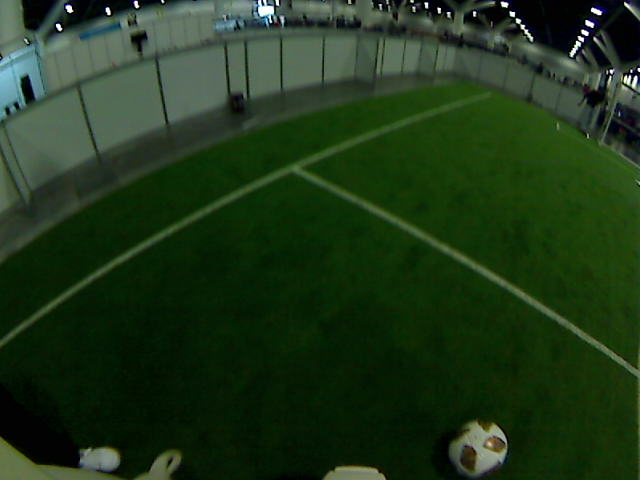ball: (457, 426, 497, 466)
goalpost: (597, 97, 606, 146)
